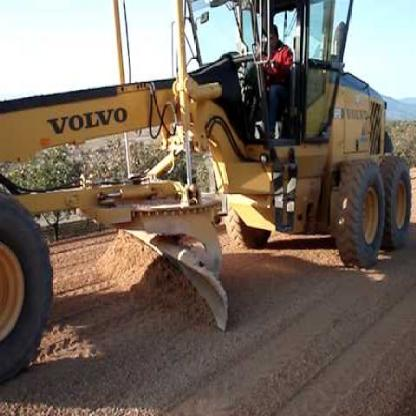bull_dozer/loader/grader: (1, 2, 415, 387)
